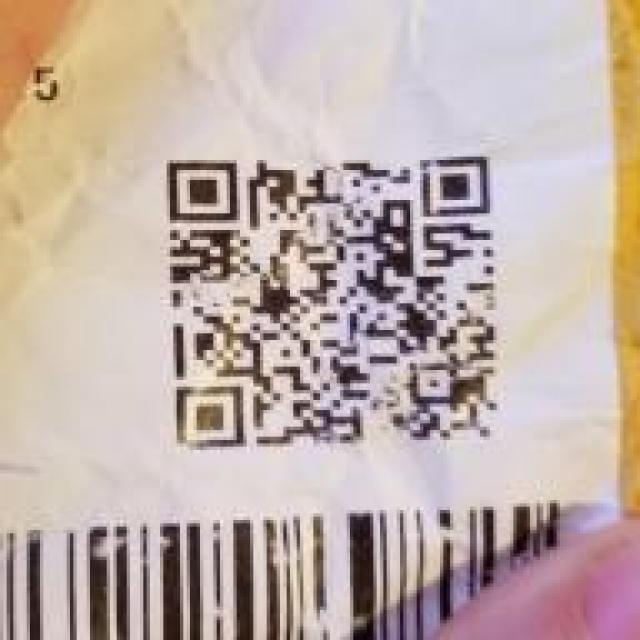qr_code: (167, 157, 498, 450)
